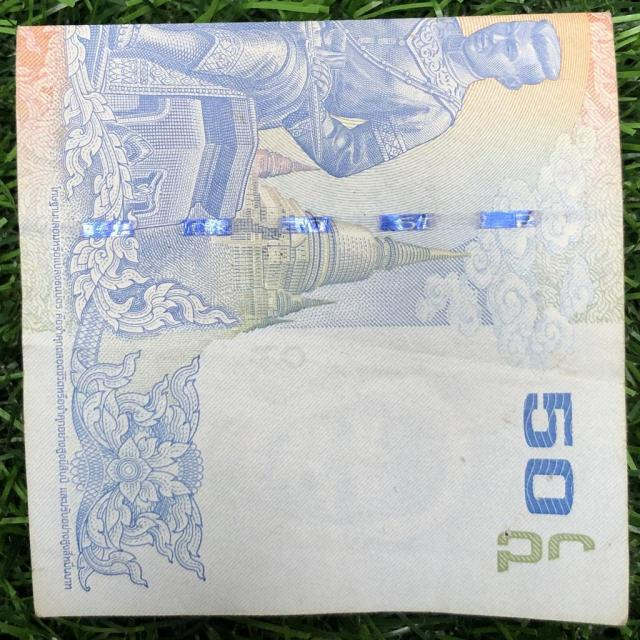THAI50: (18, 14, 628, 626)
